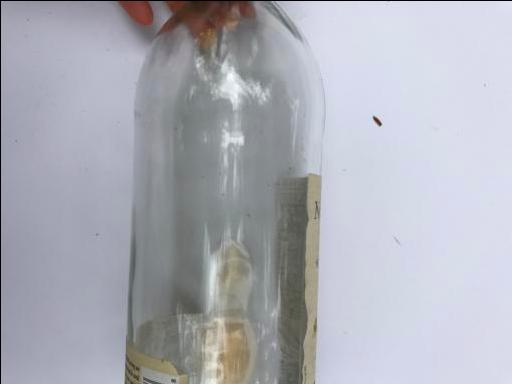alcohol: (122, 1, 326, 384)
glass: (122, 1, 326, 384)
sodocalcique: (122, 1, 326, 384)
